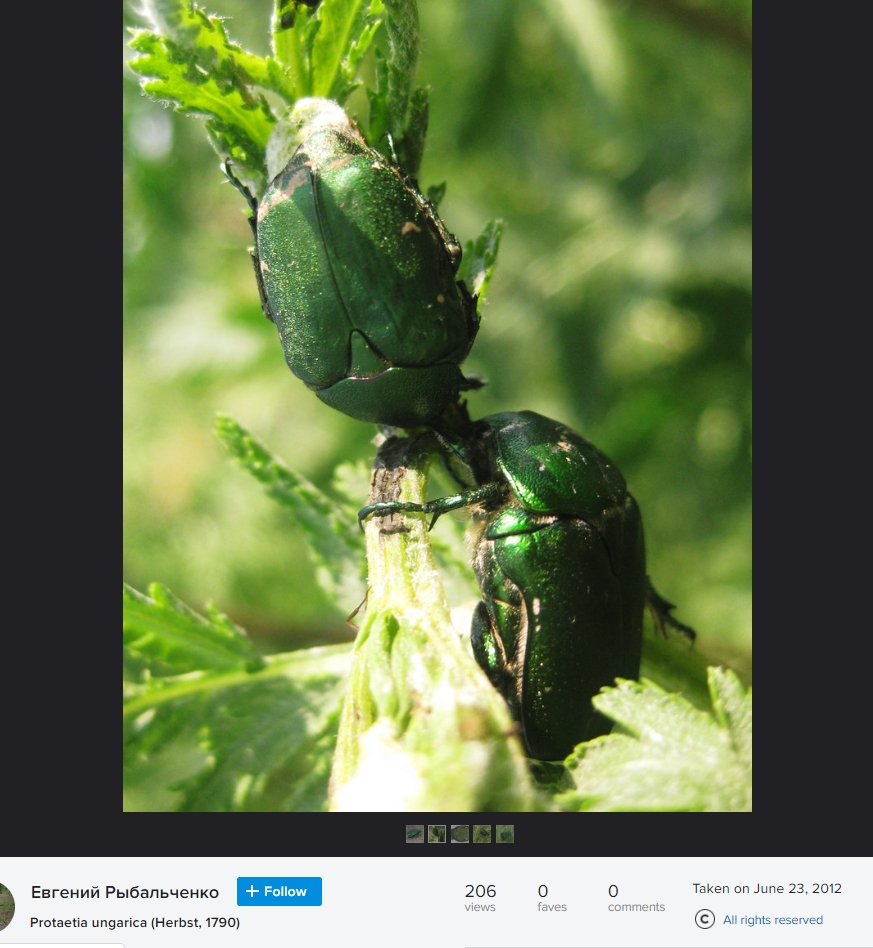Protaetia_ungarica: (226, 102, 479, 446), (459, 394, 688, 770)
